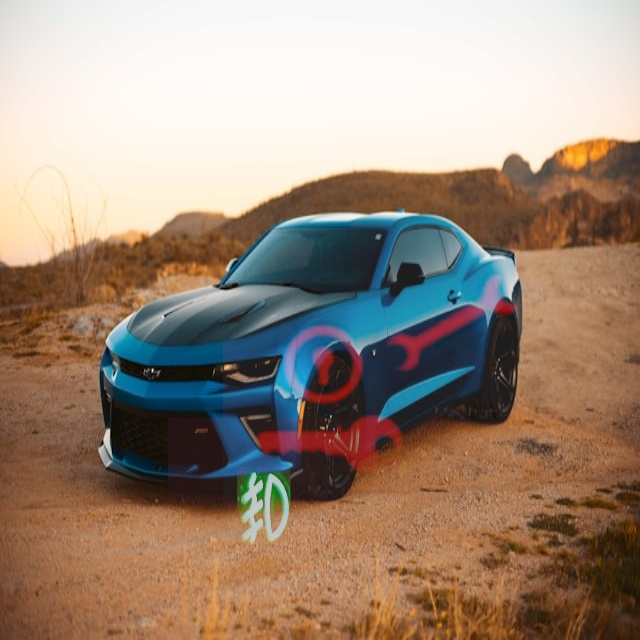symbol: (223, 296, 435, 508), (351, 219, 561, 429), (168, 418, 359, 609)
